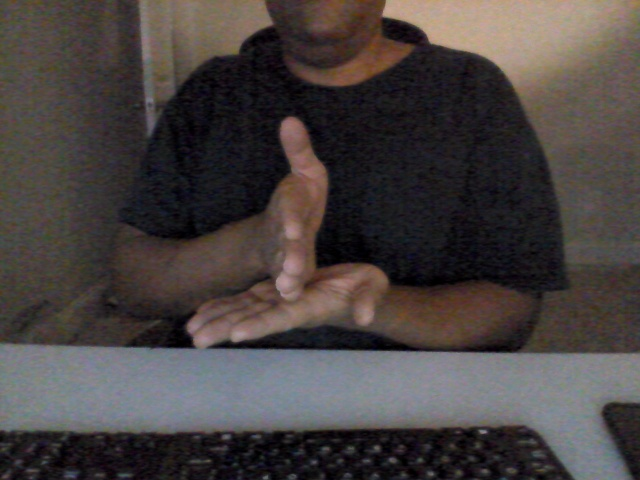stop: (179, 108, 394, 351)
